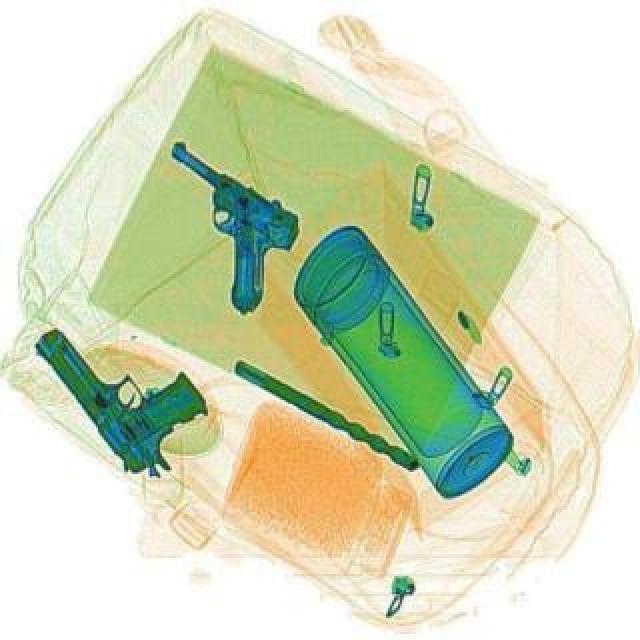gun: (28, 284, 228, 486), (108, 134, 320, 316)
